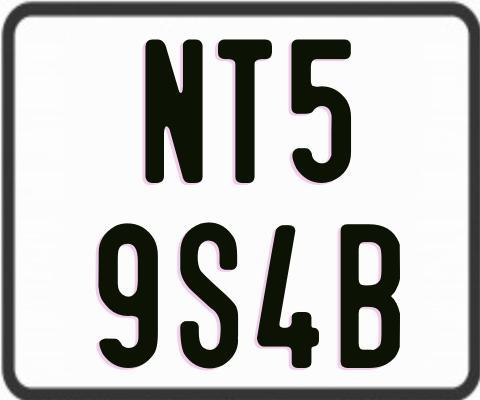4: (254, 223, 316, 372)
5: (288, 38, 349, 185)
9: (95, 223, 160, 369)
B: (338, 224, 400, 372)
N: (145, 40, 207, 188)
S: (177, 223, 238, 369)
T: (218, 37, 276, 185)
